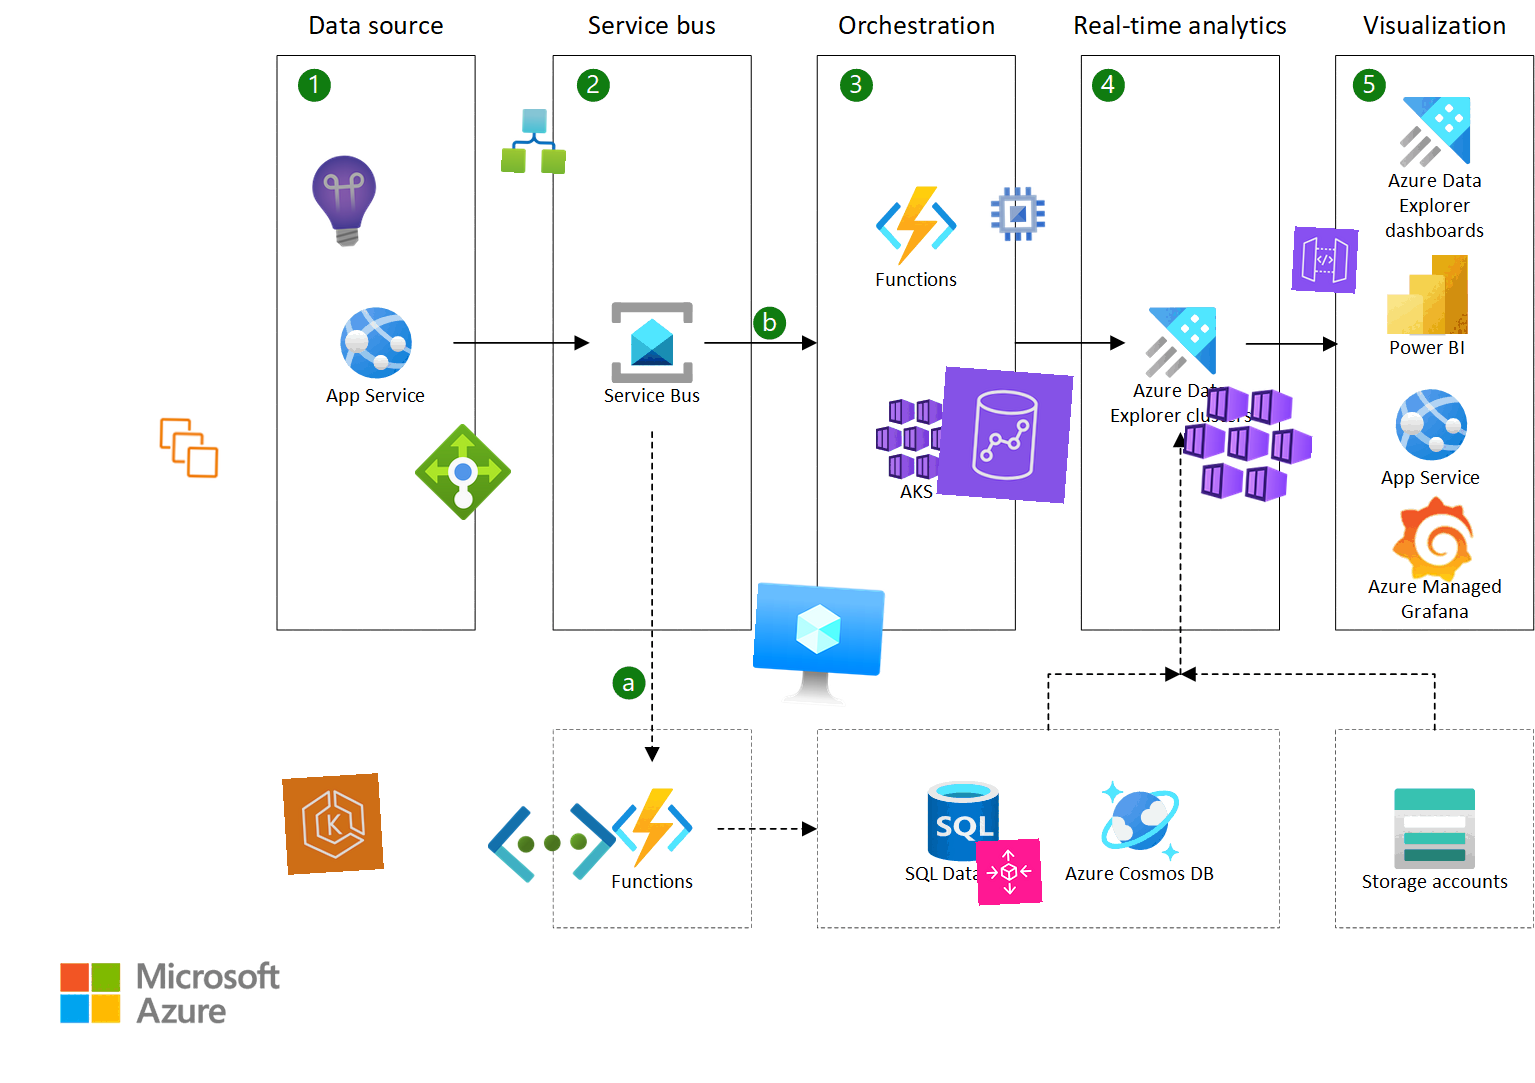aws_amazon_api_gateway: (1291, 226, 1359, 294)
aws_amazon_elastic_kubernetes_service: (282, 774, 384, 876)
aws_amazon_redshift: (936, 366, 1074, 504)
aws_auto_scaling: (975, 838, 1043, 906)
aws_ec2_instances: (156, 415, 221, 481)
azure_application_insights: (294, 150, 396, 252)
azure_kubernetes_services: (1180, 375, 1316, 511)
azure_load_balancers: (414, 423, 512, 522)
azure_logic_apps: (502, 108, 567, 173)
azure_virtual_machine: (749, 580, 887, 718)
azure_virtual_networks: (484, 775, 620, 911)
gcp_compute_engine: (985, 180, 1051, 247)
